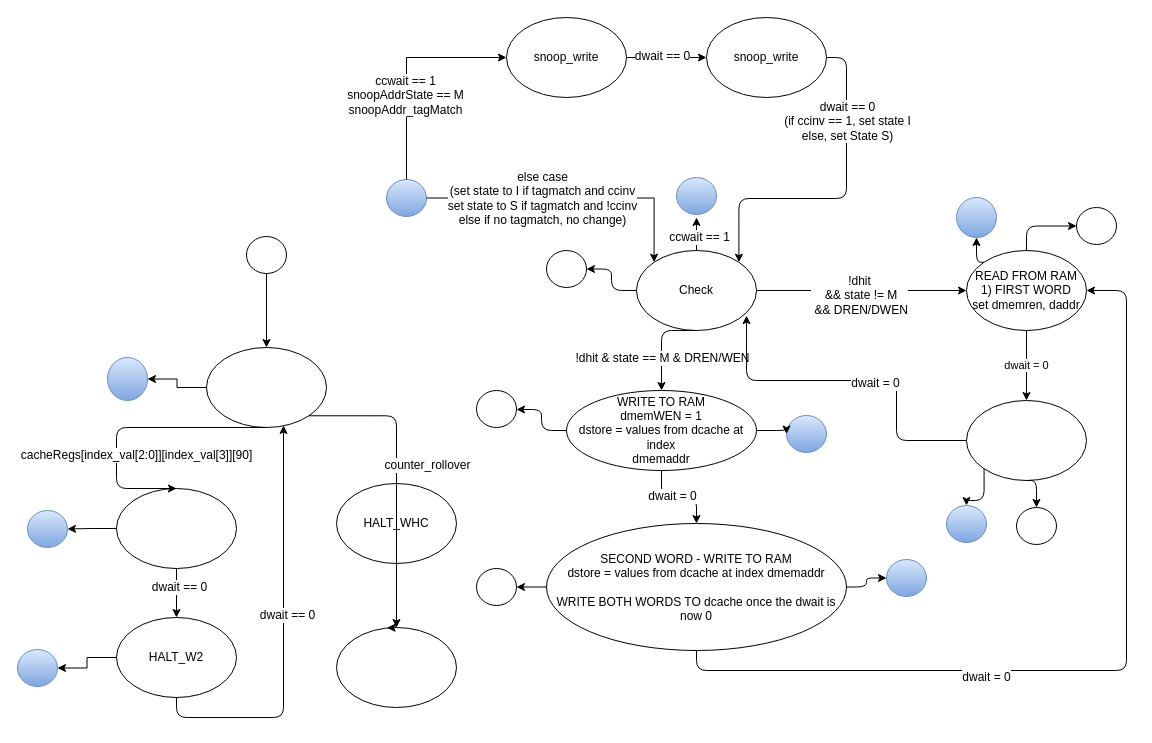
Image size: 1152x743. Some labels were removed from this diagram. The centre of each missing label's shape, as x and y in pixels:
"2) Second Word Read Write to dcache once iwait = 0" belongs at [1026,440].
"HALT" belongs at [266,387].
"HALT_DONE" belongs at [396,667].
"HALT_W1" belongs at [176,528].
